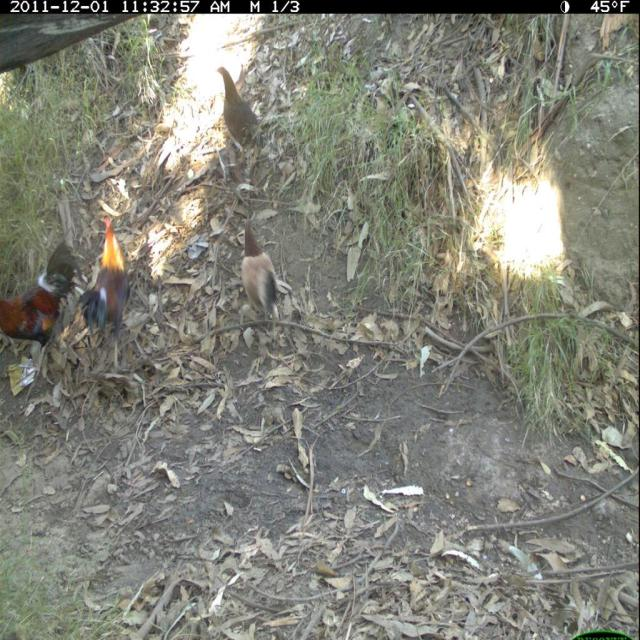bird: (1, 241, 79, 366), (78, 207, 144, 354), (211, 57, 271, 173), (238, 218, 289, 330)
